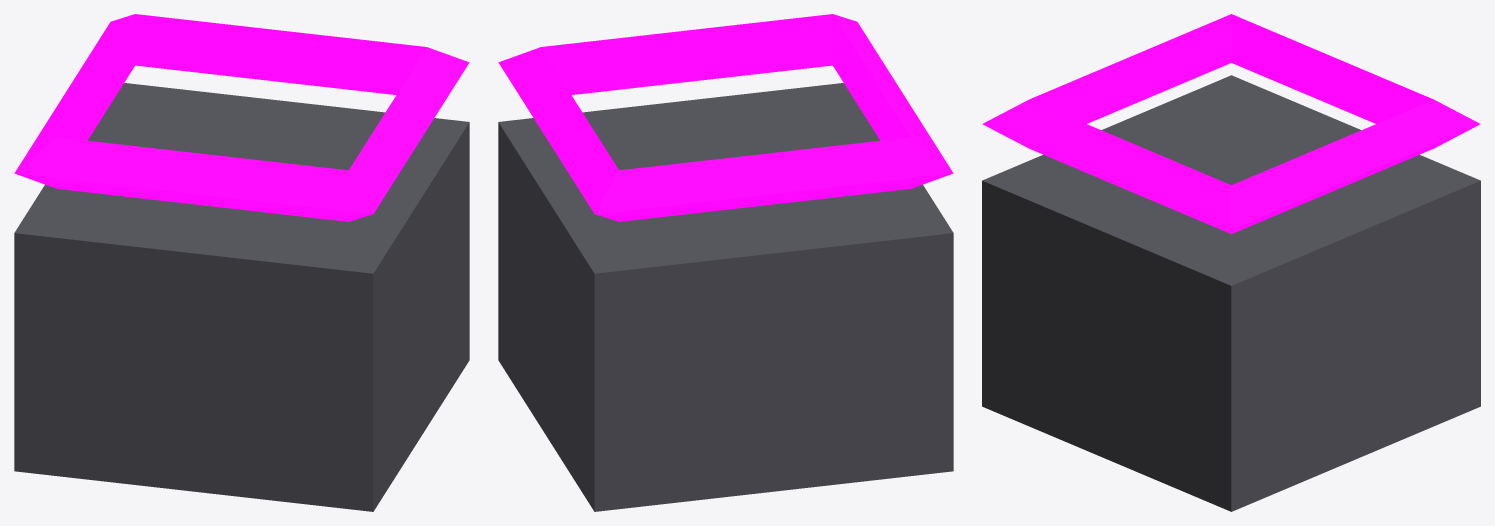
The model's file is tower_gravity_lod2.glb.
The picture shows the model from 3 angles, left to right: view 1: azimuth 30°, elevation 25°; view 2: azimuth 150°, elevation 25°; view 3: azimuth 270°, elevation 25°; orthographic projection. The views are drawn at different scales.
Parts seen in each view (by area): view 1: tower_gravity_lod2; view 2: tower_gravity_lod2; view 3: tower_gravity_lod2.
Boxes of the visible parts, box(x1,y1,x2,y2) form: tower_gravity_lod2: box(14, 14, 469, 511); tower_gravity_lod2: box(498, 14, 953, 511); tower_gravity_lod2: box(982, 14, 1480, 511).
Size of the model in its own units: 0.8 by 0.5433 by 0.8.
